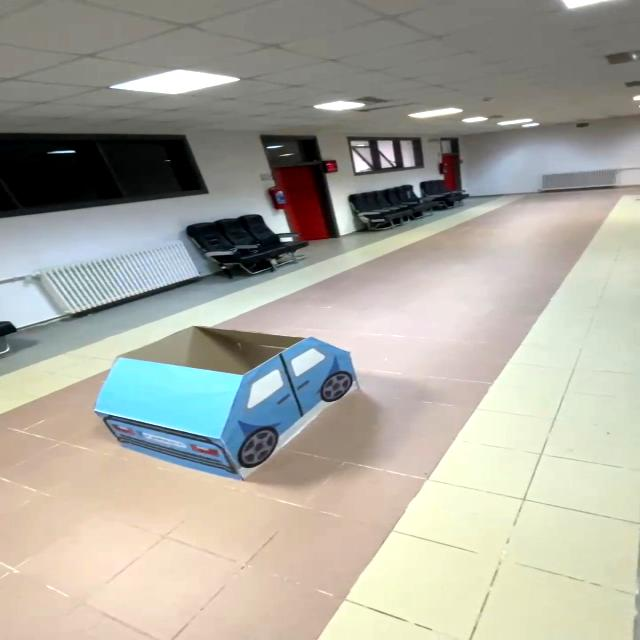blue_car: (79, 318, 376, 488)
